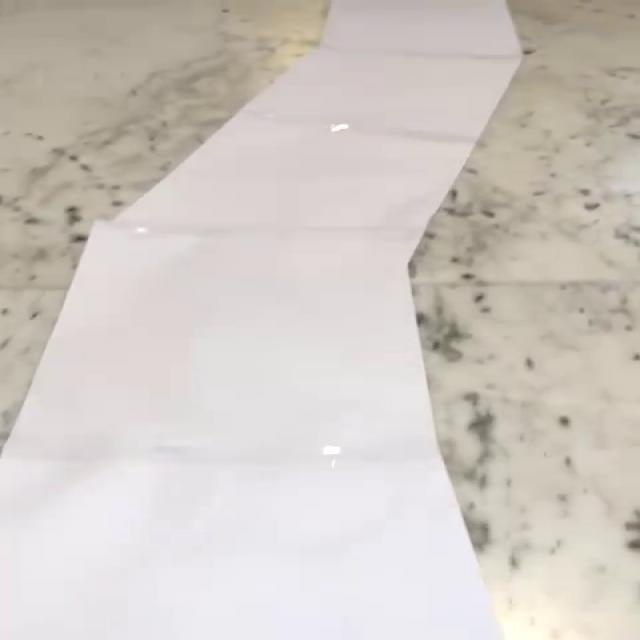road: (3, 0, 519, 640)
